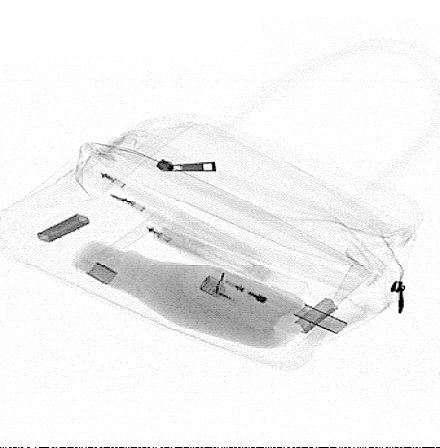Lighter: (200, 269, 297, 324)
